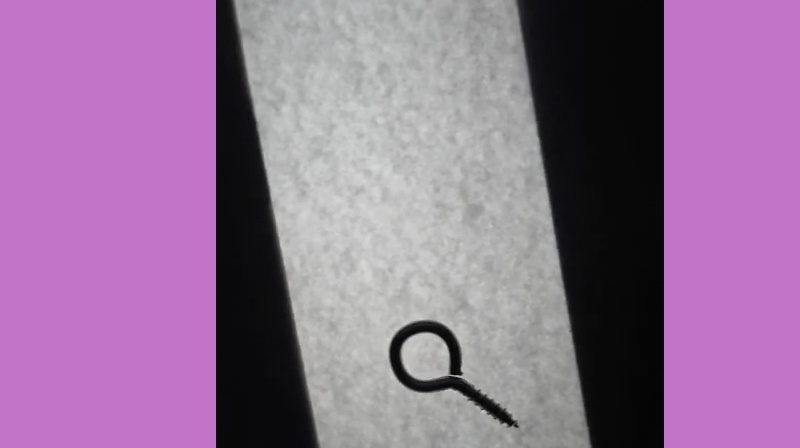O001: (385, 317, 524, 429)
